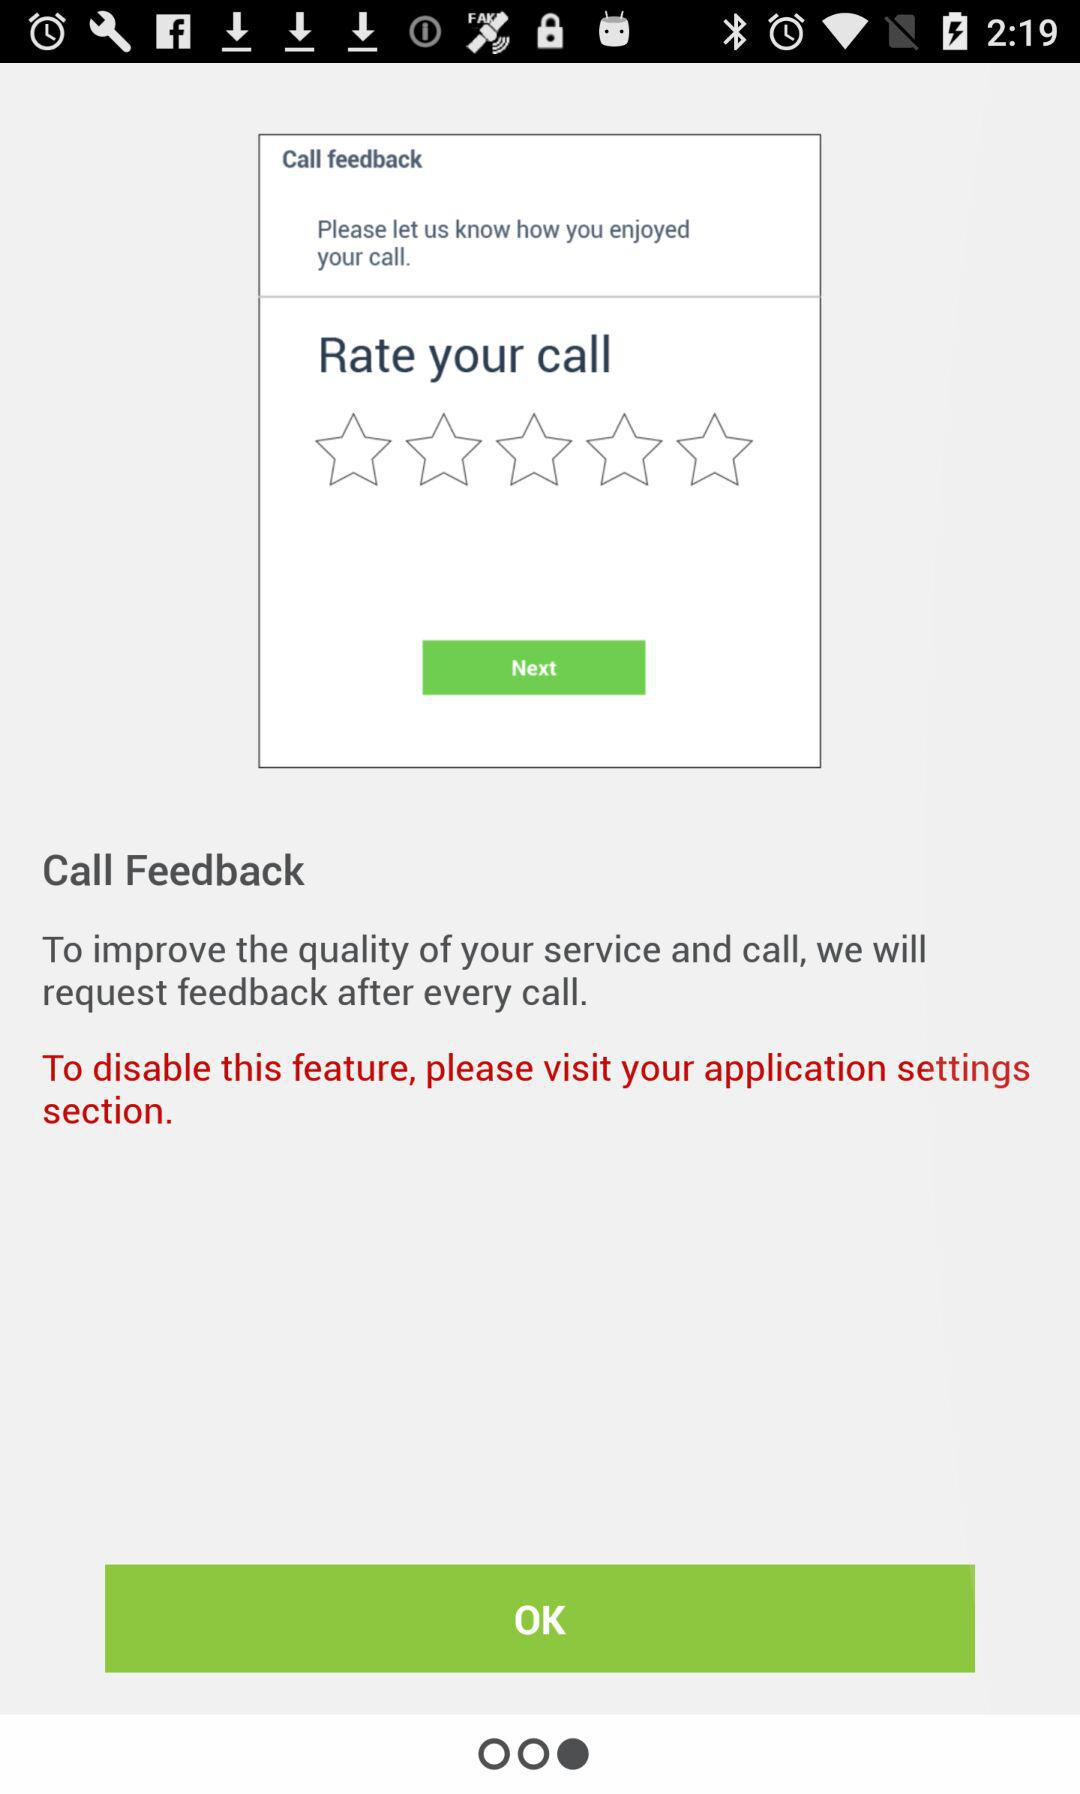Image: (258, 135, 822, 770)
PageIndicator: (478, 1738, 591, 1771)
Text: (42, 1052, 1030, 1125), (44, 934, 926, 1014), (44, 852, 306, 887)
TextButton: (105, 1565, 976, 1674)
UpperTaskBar: (1, 1, 1080, 64)
